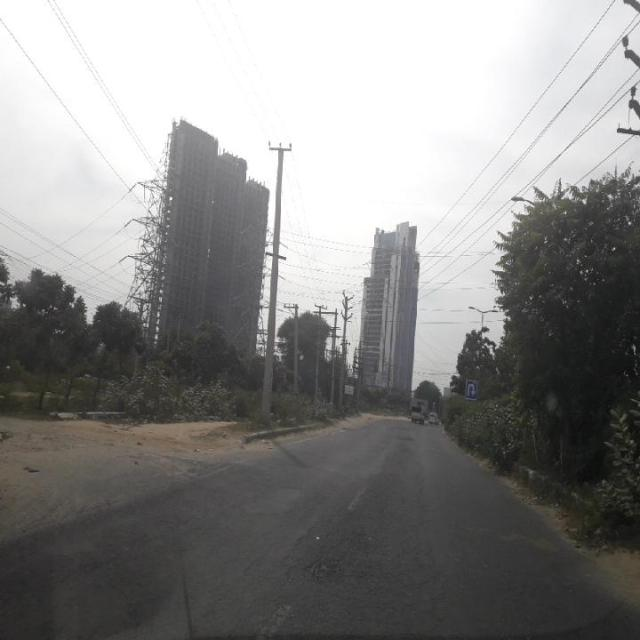D20: (200, 442, 454, 628)
D44: (343, 466, 373, 517)
